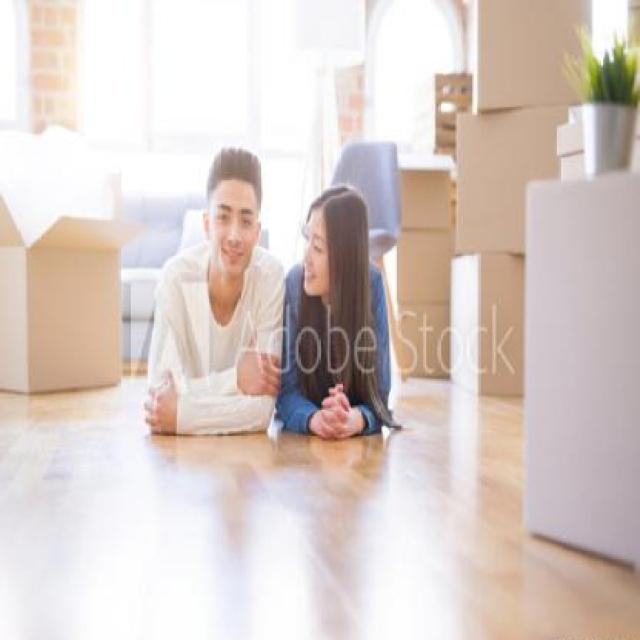box: (0, 120, 152, 402), (453, 109, 575, 252), (475, 0, 602, 110), (443, 255, 526, 416)
